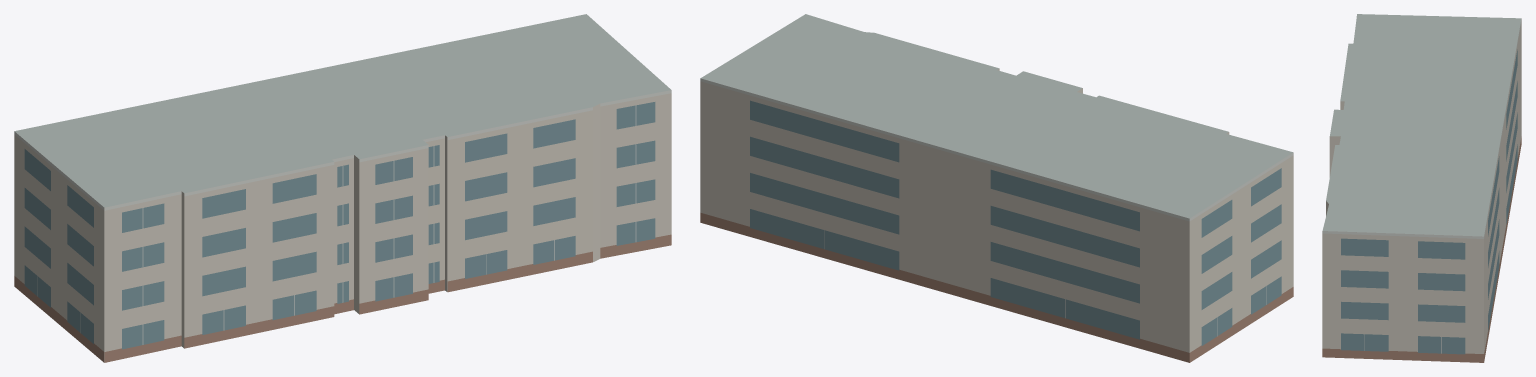
Rendered from survey-upis-32829744.glb.
3 views of the same model, side by side, from view 1: azimuth 30°, elevation 25°; view 2: azimuth 150°, elevation 25°; view 3: azimuth 270°, elevation 25° (orthographic). The views are drawn at different scales.
Parts seen in each view (by area): view 1: survey-upis-32829744.tmp; view 2: survey-upis-32829744.tmp; view 3: survey-upis-32829744.tmp.
Boxes of the visible parts, box(x1,y1,x2,y2) form: survey-upis-32829744.tmp: box(14, 14, 671, 362); survey-upis-32829744.tmp: box(700, 14, 1293, 362); survey-upis-32829744.tmp: box(1322, 14, 1521, 362).
Bounding box in the file's own units: 46.07 × 12.2 × 17.42.
